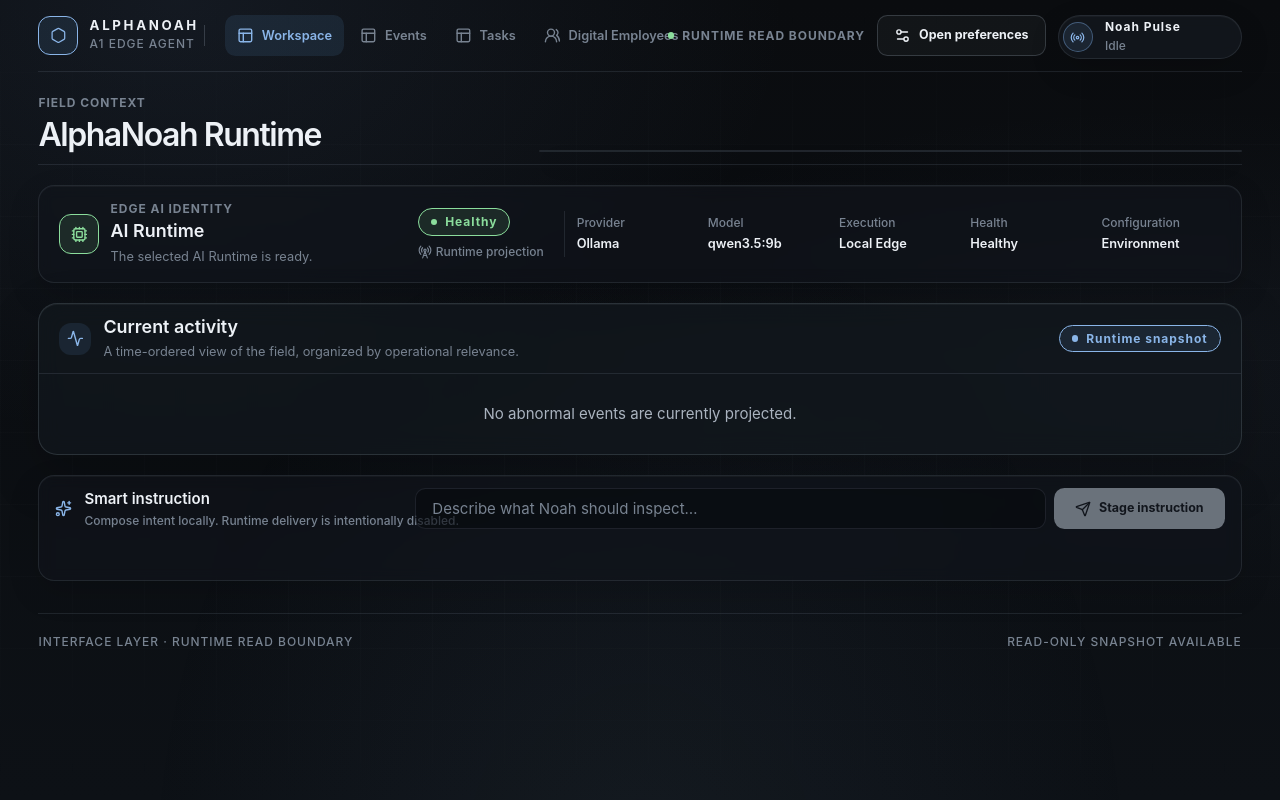
Test: F03-D2 Runtime Projection application integration › refreshes persisted runtime projections when navigating back to Workspace
This screenshot has width=1280, height=800.
Expected: the text "No abnormal events are currently projected." is shown, [484, 404, 796, 423]
Click the link "Events" at (393, 36), box [360, 27, 427, 44]
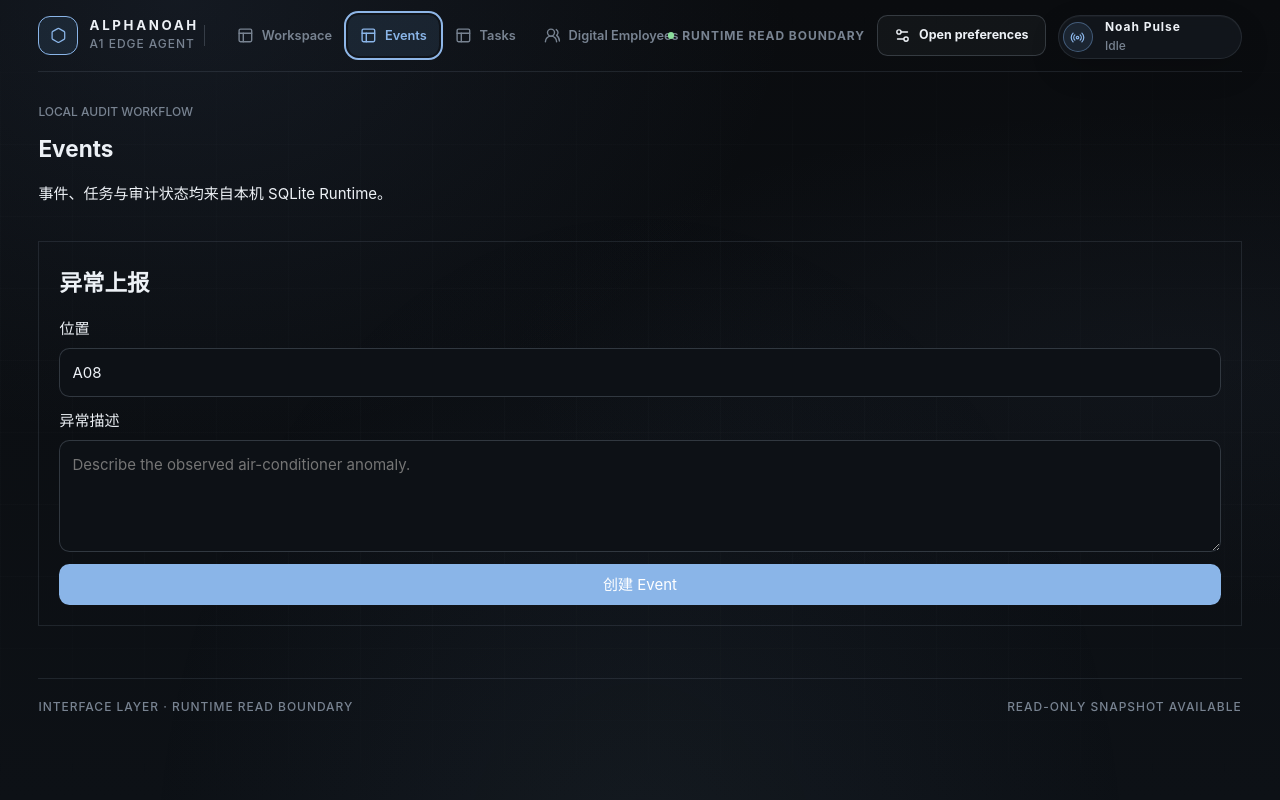
Result: the heading "Events" is shown at [38, 135, 113, 162]
Click the link "Workspace" at (285, 36), box [237, 27, 332, 44]
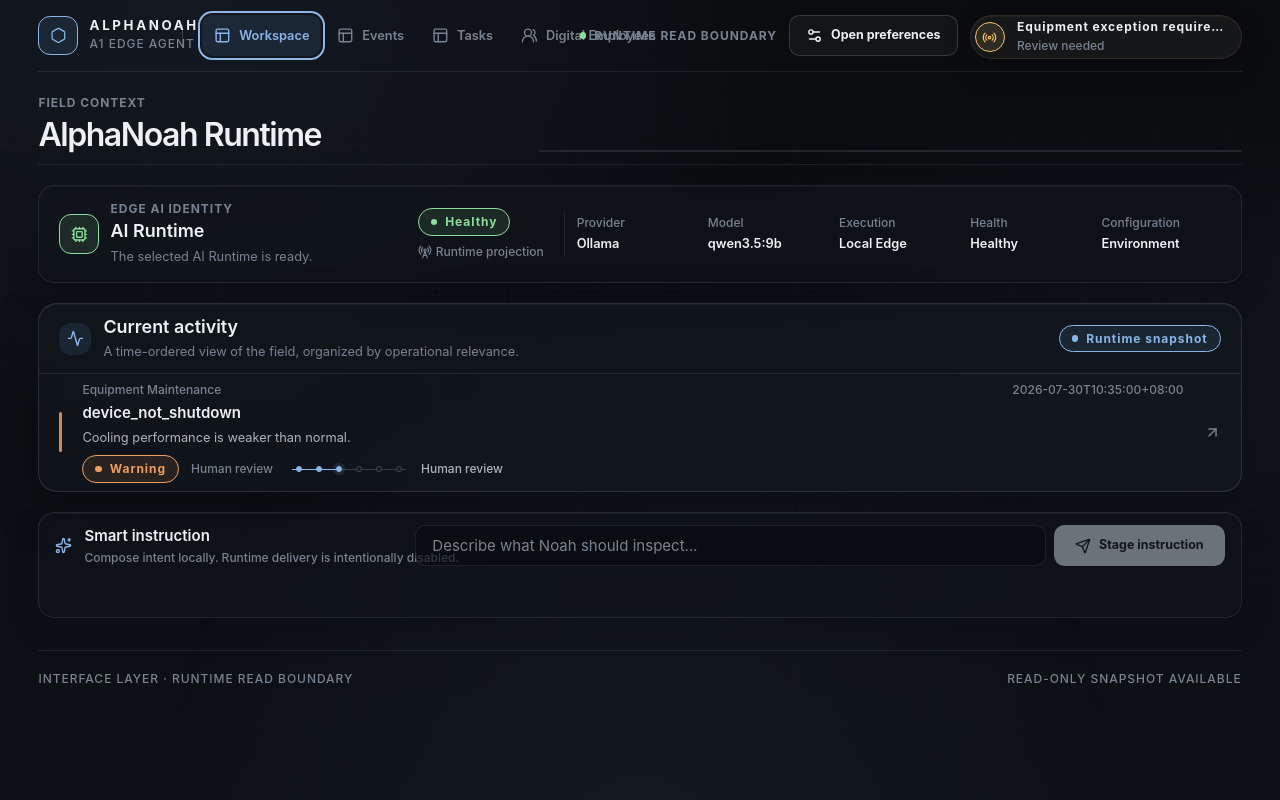
Result: the button with aria-label "Open action context: device_not_shutdown" is shown at [39, 374, 1241, 491]
Result: the button with aria-label "Open Noah Pulse summary" shows "Equipment exception requires review" at [971, 16, 1241, 58]
